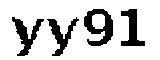1: (116, 5, 148, 53)
9: (81, 9, 115, 52)
y: (7, 15, 47, 60), (45, 15, 78, 60)
